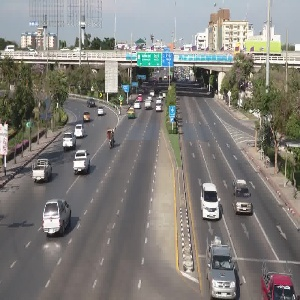truck: (205, 242, 240, 300), (253, 262, 300, 300), (224, 177, 261, 218), (40, 195, 72, 242), (27, 154, 57, 184), (65, 148, 97, 176)
van: (199, 178, 221, 222)
